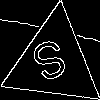S: (28, 37, 74, 93)
